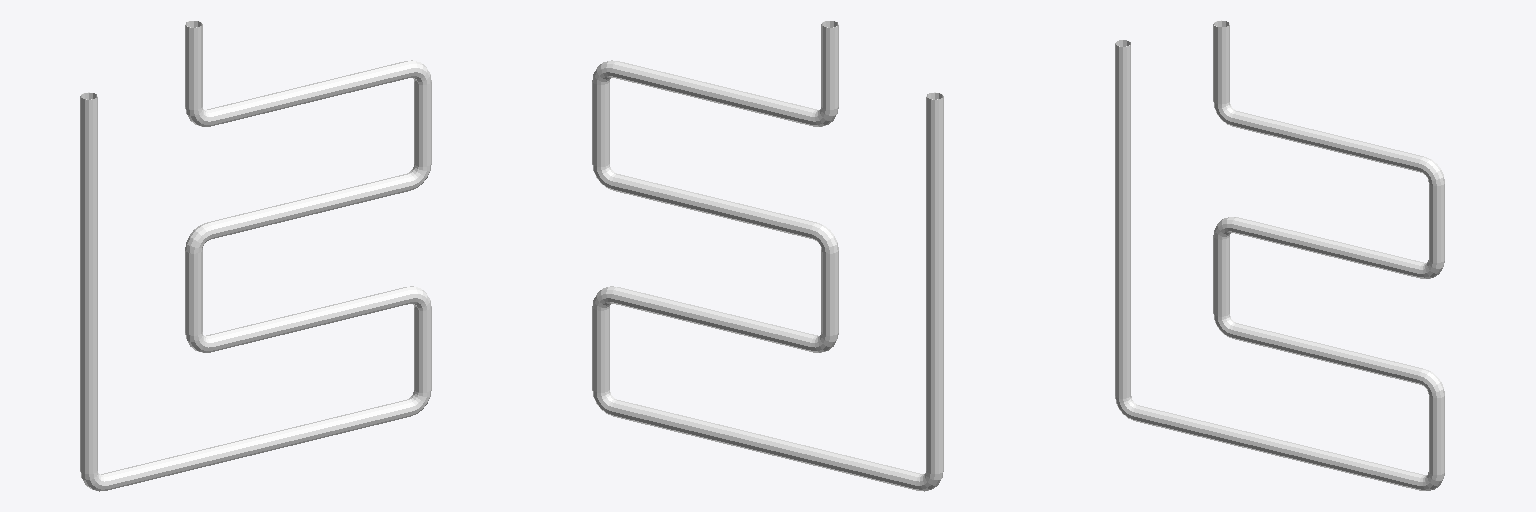
URDF robot description (simple_pipe):
<?xml version="1.0" encoding="utf-8"?>
<!-- This pipe's diameter is 190 mm and is 3 mm thick with principal coefficients of friction of 0.3 and 0.8 -->
<robot
  name="simple_pipe">
  <link
    name="simple_pipe_link">
    <inertial>
      <origin
        xyz="0.765963671849523 0 -3.20051615015487"
        rpy="0 0 0" />
      <mass
        value="53.6015722452936" />
      <inertia
        ixx="135.592609265775"
        ixy="-6.3484735479565E-16"
        ixz="4.33851043742066"
        iyy="257.84224392069"
        iyz="2.18498559870002E-16"
        izz="122.748906499593" />
    </inertial>
    <visual>
      <origin
        xyz="0 0 0"
        rpy="0 0 0" />
      <geometry>
        <mesh
          filename="package://pir-b-001/meshes/simple_pipe_link.STL" />
      </geometry>
      <material
        name="">
        <color
          rgba="1 1 1 1" />
      </material>
    </visual>
    <collision>
      <origin
        xyz="0 0 0"
        rpy="0 0 0" />
      <geometry>
        <mesh
          filename="package://pir-b-001/meshes/simple_pipe_link.STL" />
      </geometry>
      <surface>
        <friction>
          <ode>
            <mu>0.3</mu> <!-- Friction coefficient in the first direction -->
            <mu2>0.8</mu2> <!-- Friction coefficient in the second direction -->
          </ode>
        </friction>
      </surface>
    </collision>
  </link>
  
  <gazebo>
    <static>true</static>
  </gazebo>
  <gazebo reference="simple_pipe_link">
    <material>Gazebo/BlueTransparent</material>
  </gazebo>

</robot>

--- What the picture shows (computed from the rendered views, not written in the file) ---
3 views of the same robot in one strip: view 1: azimuth 30°, elevation 25°; view 2: azimuth 150°, elevation 25°; view 3: azimuth 330°, elevation 25° (orthographic).
Model simple_pipe with 1 links and 0 joints (none), rooted at simple_pipe_link, posed all joints at 0.
Visible links, largest first — view 1: simple_pipe_link; view 2: simple_pipe_link; view 3: simple_pipe_link.
Link boxes in pixels (x1=…): simple_pipe_link: x1=80, y1=21, x2=431, y2=491; simple_pipe_link: x1=592, y1=21, x2=943, y2=491; simple_pipe_link: x1=1115, y1=20, x2=1444, y2=490.
Bounding box of the posed robot: 4.5 × 0.196 × 5.47 m (x, y, z).
Meshes: 1 distinct files referenced, 1 mesh visuals loaded (1 binary STL).